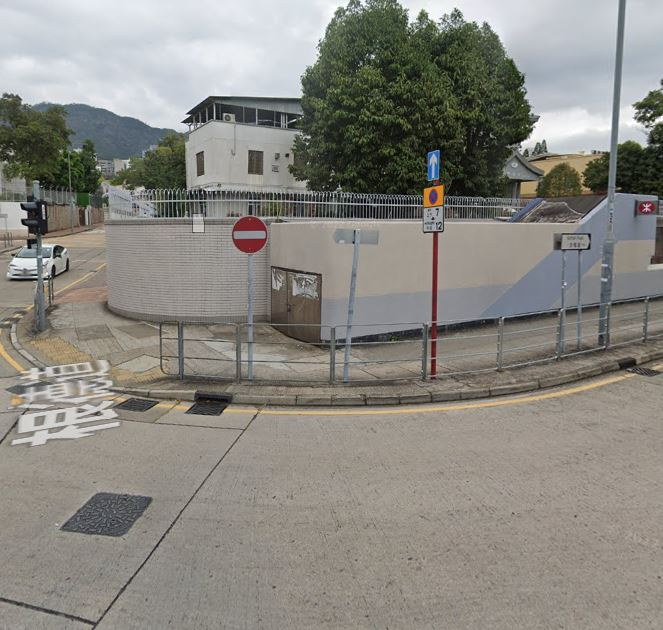No Enter: (230, 213, 271, 256)
One Way Traffic: (427, 148, 442, 182)
Start Of No Stopping: (421, 186, 447, 234)
